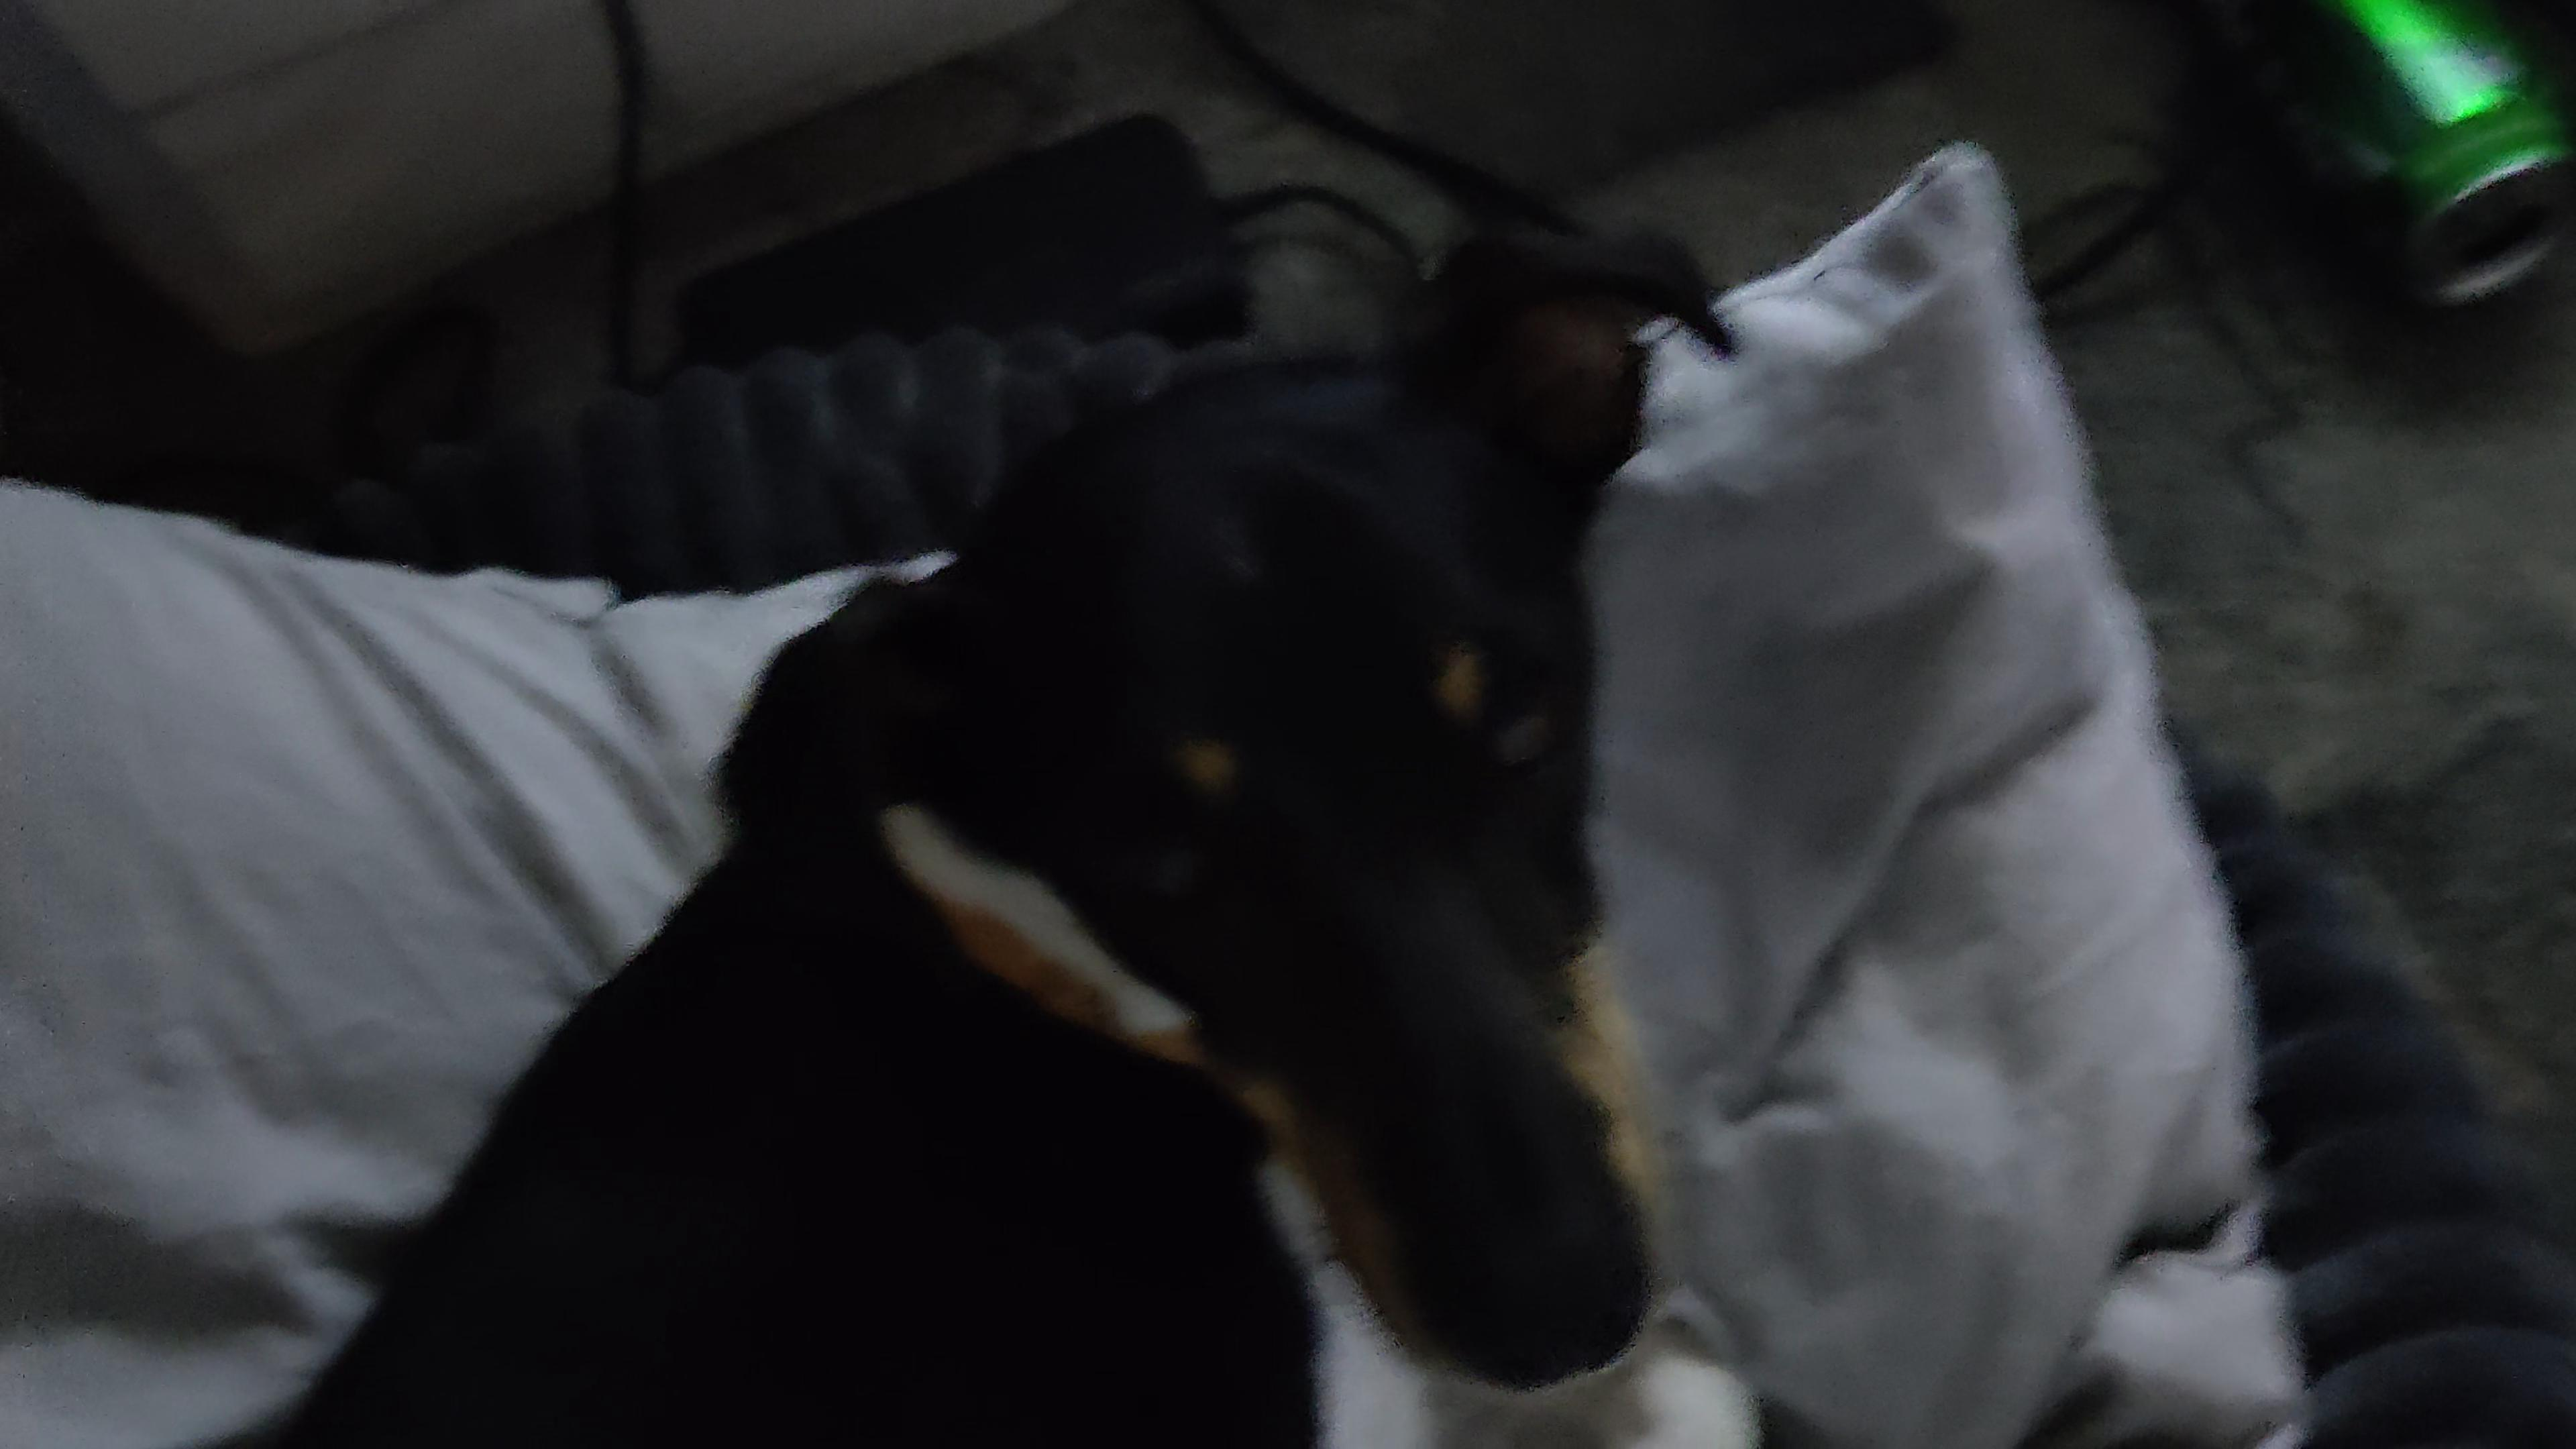Dog: (283, 216, 1757, 1449)
